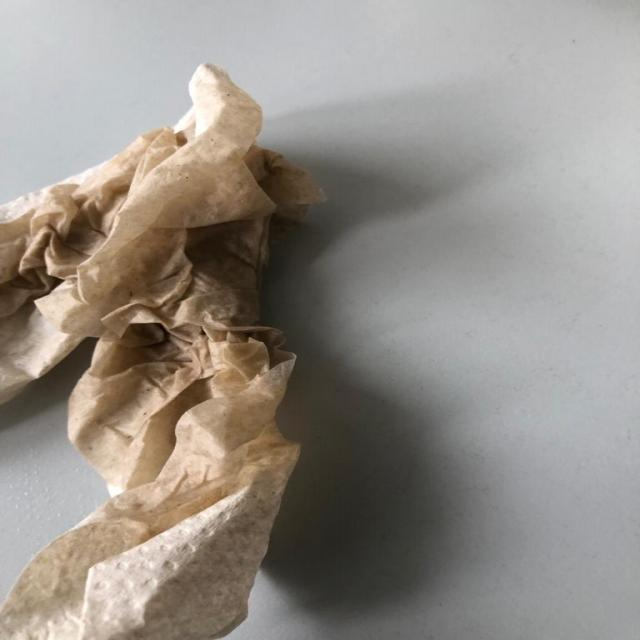kitchen paper: (0, 61, 335, 640)
